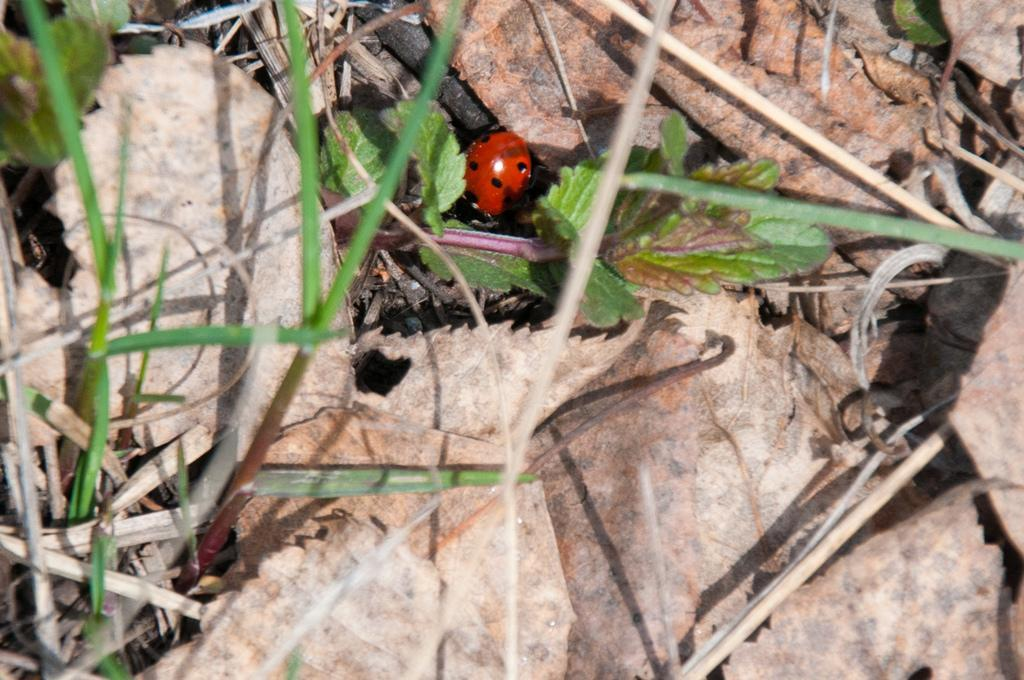ladybug: (451, 125, 553, 231)
